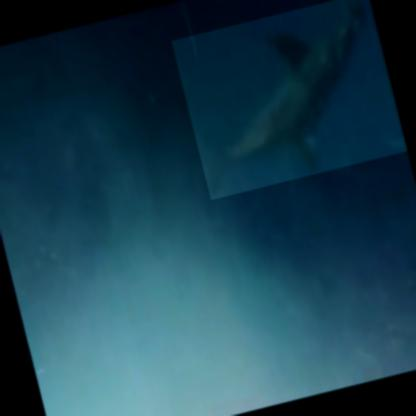mako-shark: (170, 0, 408, 202)
